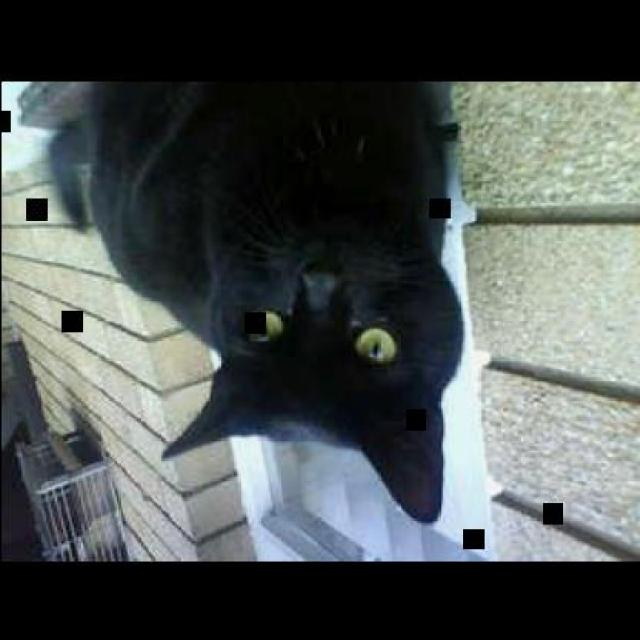unauthorized: (16, 79, 467, 523)
